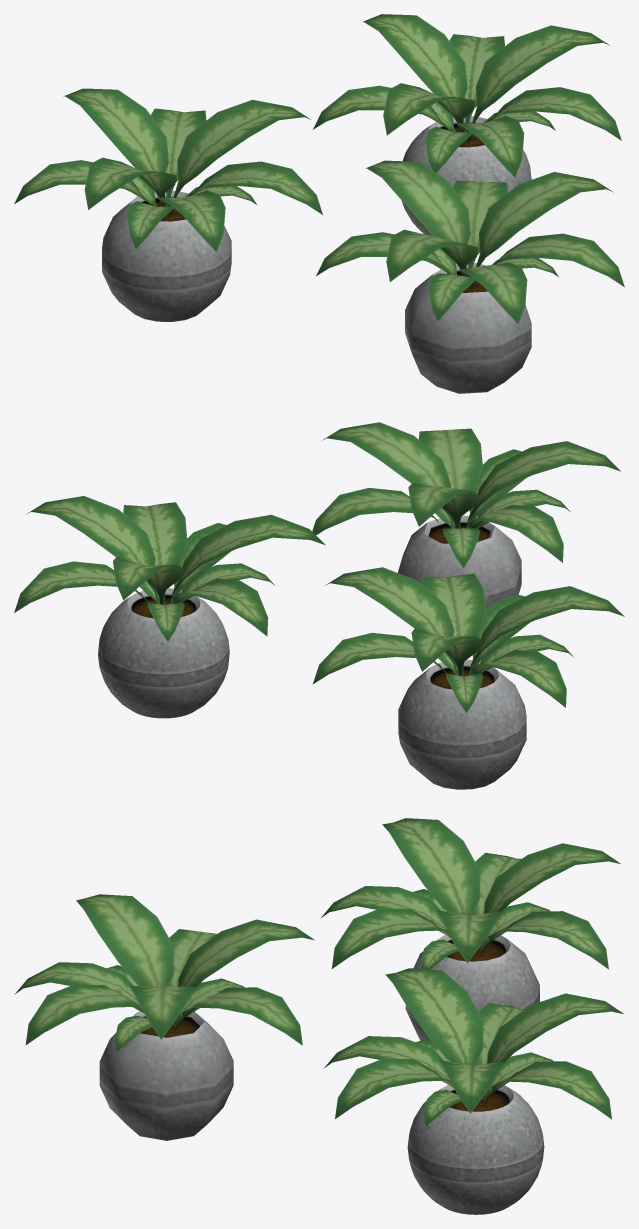
Rendered from prop_corner_flowerpot.glb.
3 renders of one model, top to bottom at view 1: azimuth 30°, elevation 25°; view 2: azimuth 150°, elevation 25°; view 3: azimuth 270°, elevation 25°, orthographic. The views are drawn at different scales.
Parts seen in each view (by area): view 1: c_flowerpot_lod2, c_flowerpot_lod3, c_flowerpot_lod1; view 2: c_flowerpot_lod1, c_flowerpot_lod2, c_flowerpot_lod3; view 3: c_flowerpot_lod1, c_flowerpot_lod3, c_flowerpot_lod2.
Boxes of the visible parts, x1=… form: c_flowerpot_lod2: x1=14, y1=88, x2=322, y2=321; c_flowerpot_lod3: x1=316, y1=160, x2=624, y2=393; c_flowerpot_lod1: x1=313, y1=14, x2=621, y2=236; c_flowerpot_lod1: x1=14, y1=496, x2=325, y2=718; c_flowerpot_lod2: x1=312, y1=567, x2=624, y2=789; c_flowerpot_lod3: x1=312, y1=422, x2=620, y2=609; c_flowerpot_lod1: x1=323, y1=968, x2=624, y2=1214; c_flowerpot_lod3: x1=14, y1=894, x2=314, y2=1140; c_flowerpot_lod2: x1=320, y1=818, x2=621, y2=1040.
Bounding box in the file's own units: 4.95 × 1.49 × 4.47.
Materials: 3 (3 with a texture image).
